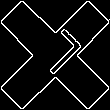L_SW: (26, 26, 84, 84)
